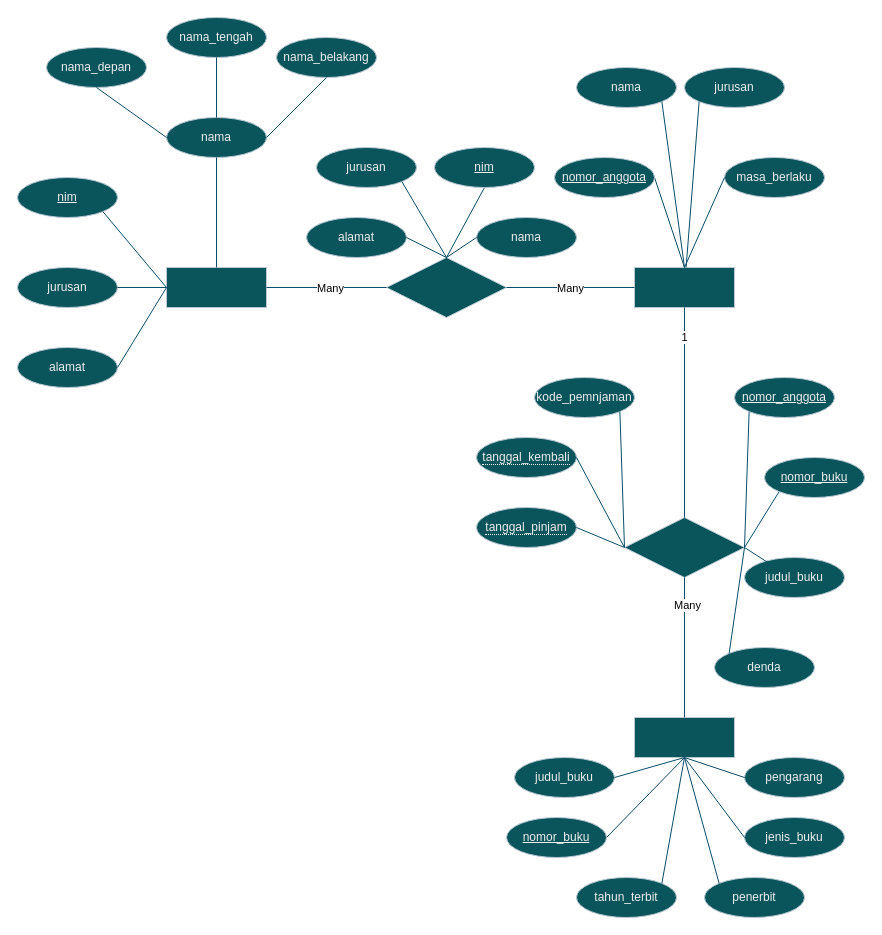
This 882x935 diagram has some shape labels left out. The shapes that lost their labels are listed below. From the top down, each one's centre as x and y in pixels, then its label:
[216,287]: Mahasiswa
[446,287]: mendaftar
[684,287]: Anggota Perpustakaan
[684,547]: meminjam
[684,737]: Buku
